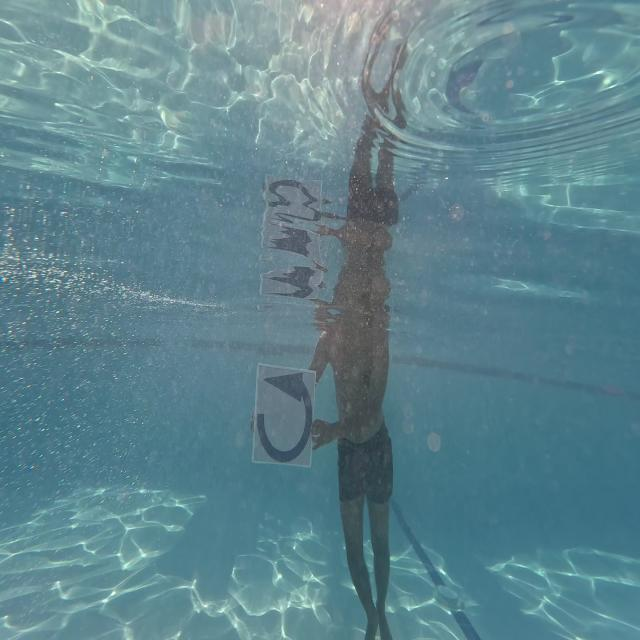blue_side: (245, 344, 322, 478)
